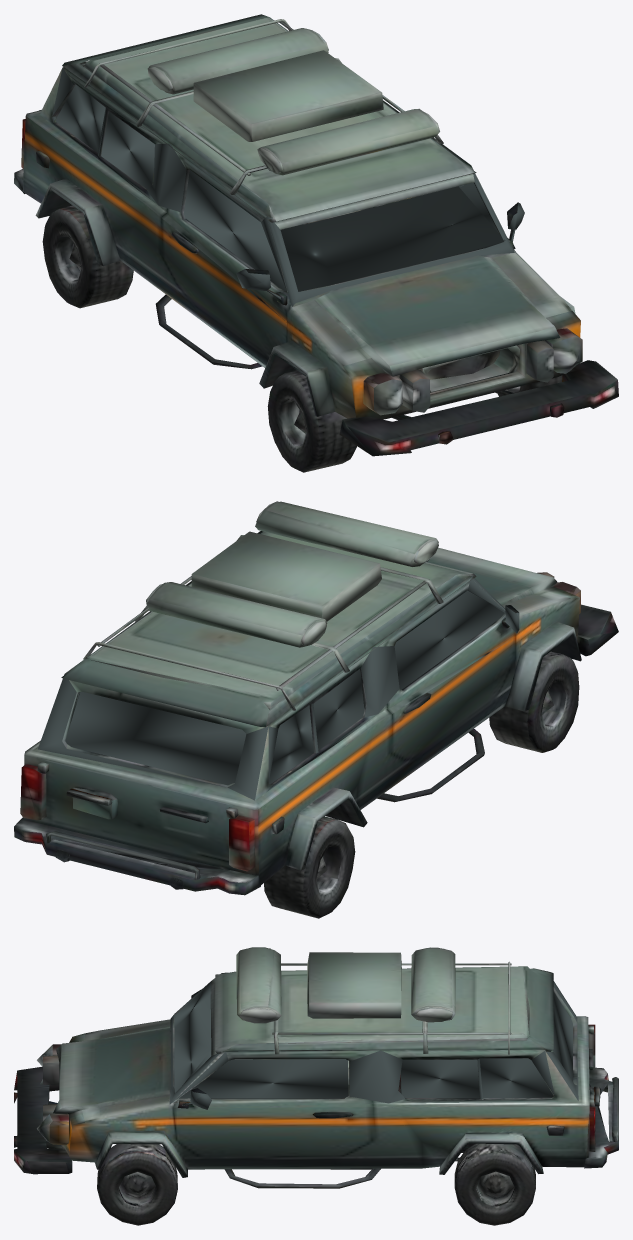
File: RecoveryCar.glb
3 views of the same model, one above another, from view 1: azimuth 30°, elevation 25°; view 2: azimuth 150°, elevation 25°; view 3: azimuth 270°, elevation 25° (orthographic). The views are drawn at different scales.
Visible parts, largest first — view 1: RecoveryCar_Visual; view 2: RecoveryCar_Visual; view 3: RecoveryCar_Visual.
Part boxes in pixels (<box>): RecoveryCar_Visual: <box>14,14,618,472</box>; RecoveryCar_Visual: <box>14,501,618,918</box>; RecoveryCar_Visual: <box>14,947,618,1225</box>.
Size of the model in its own units: 1.9 by 1.6 by 4.4.
Materials: 2 (1 with a texture image).
